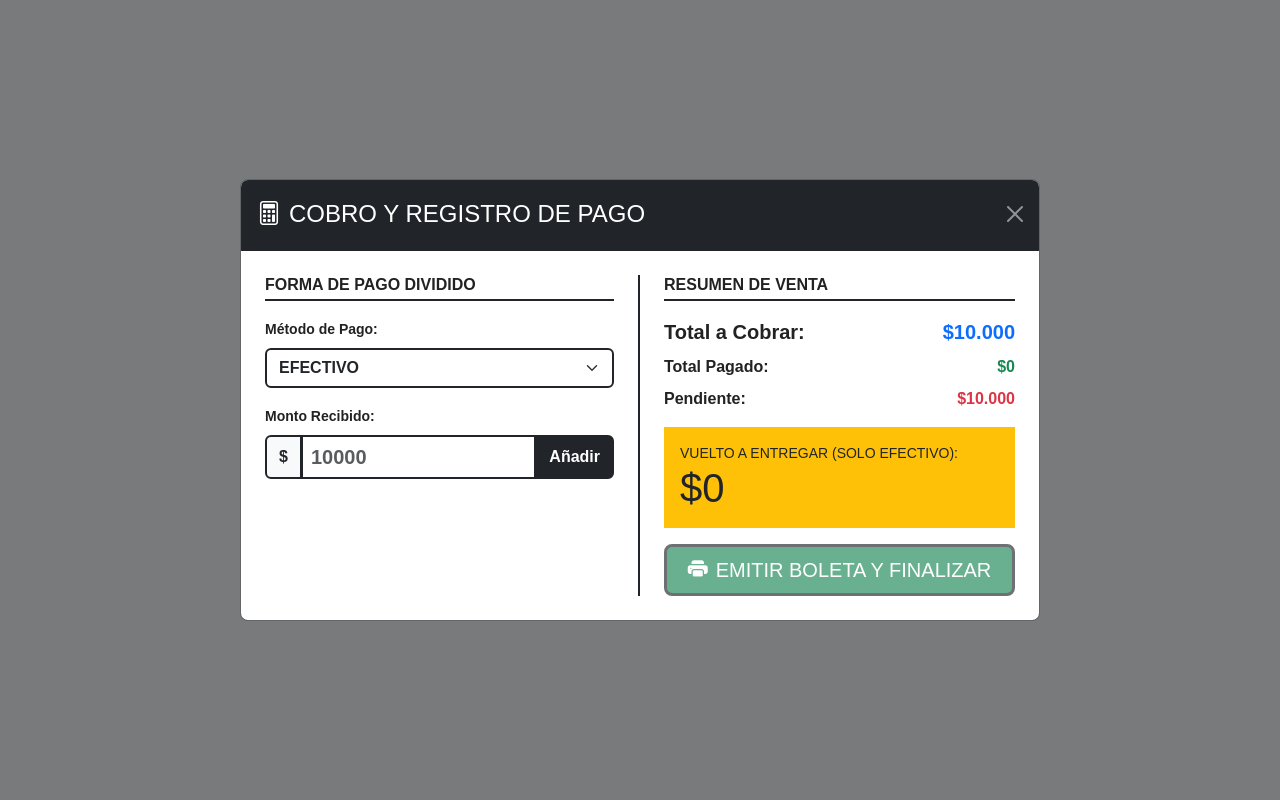
Test: ModalCobroPOS - Cobros y cálculo de vuelto › debería permitir eliminar un pago agregado
Type "5000" into the number field at (419, 457), box [301,435,536,479]
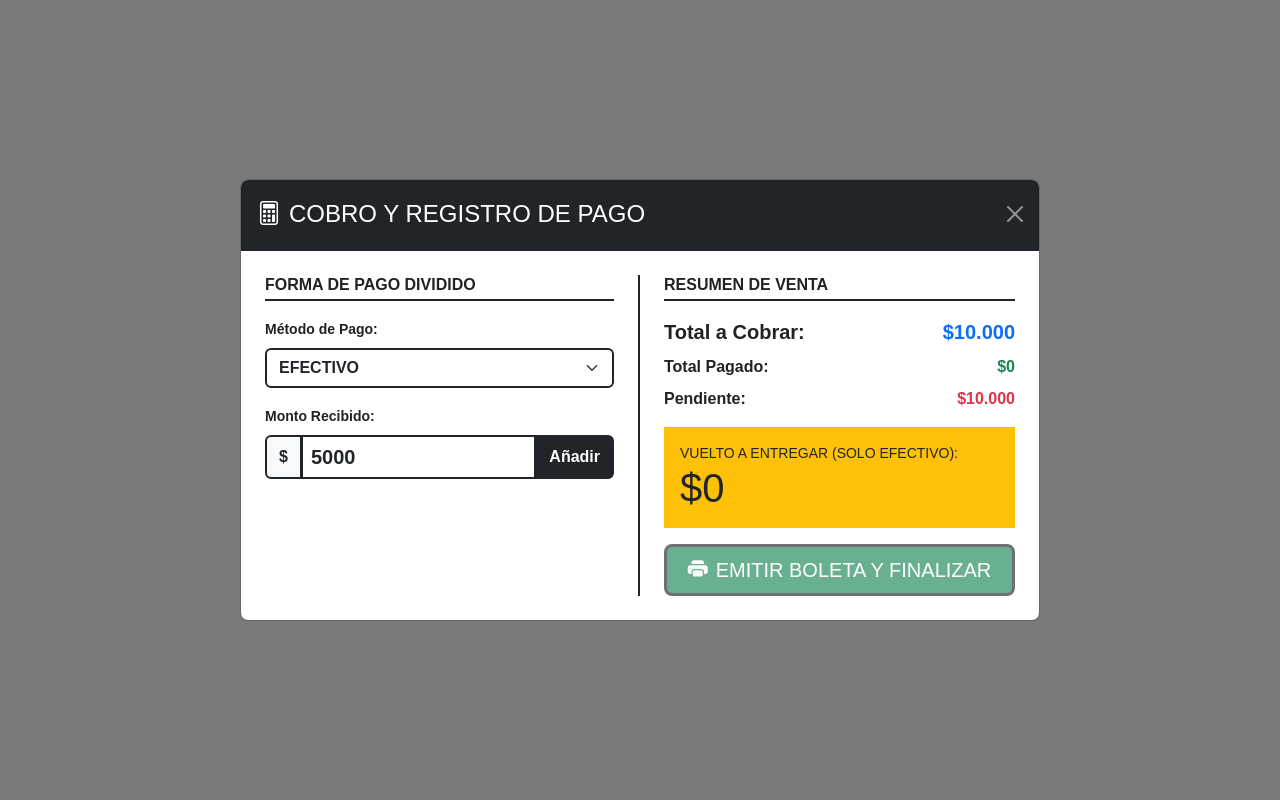
Click the button "Añadir" at (575, 457), box [535,435,614,479]
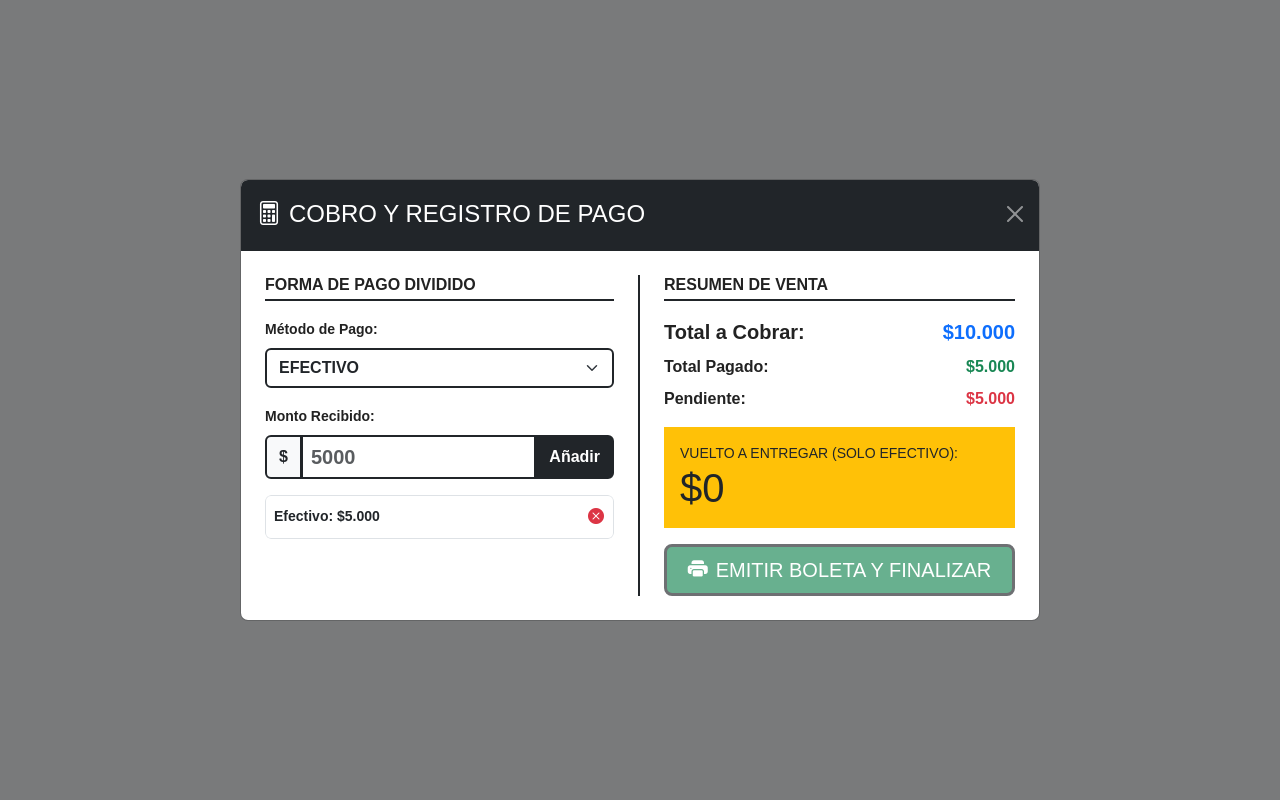
Expected: the text "Efectivo: $5.000" is shown, [274,506,380,527]
Click the 3rd button at (596, 517), box [587,504,605,530]
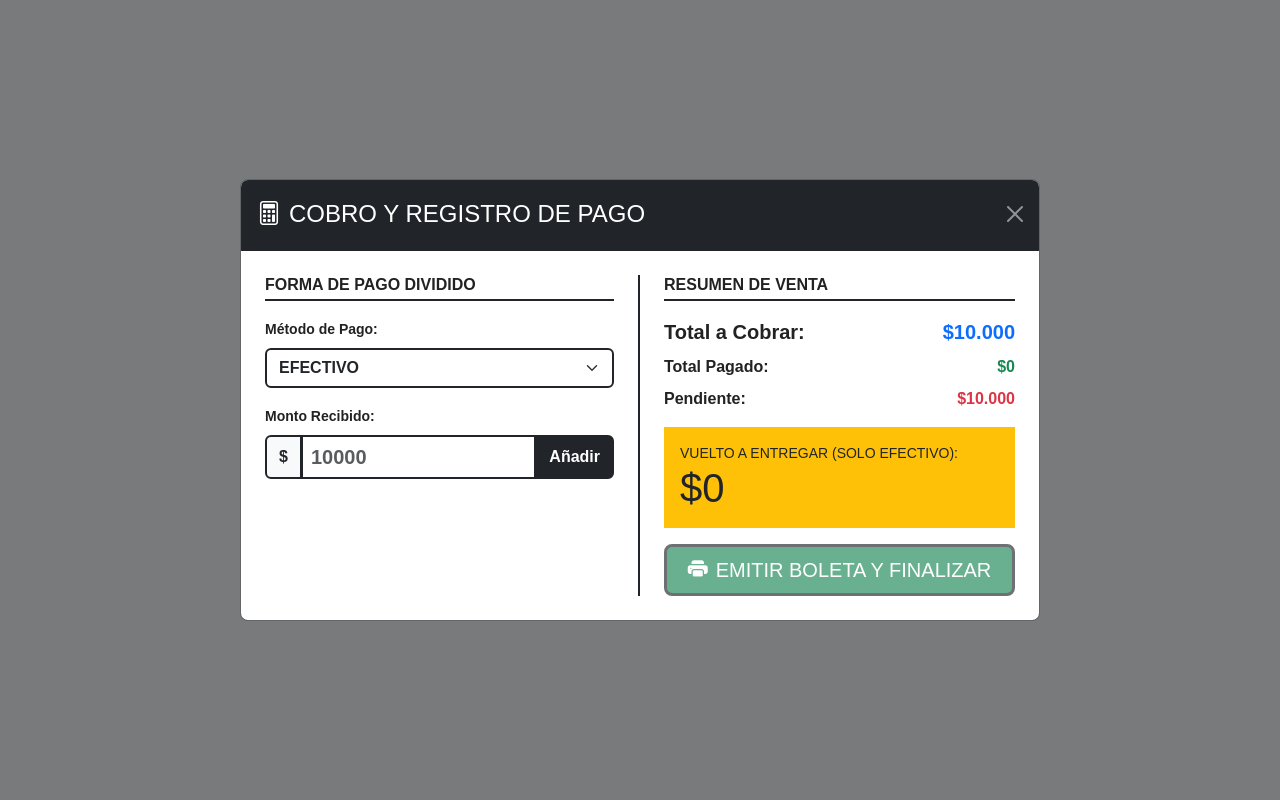
Expected: the text "Efectivo: $5.000" is gone
